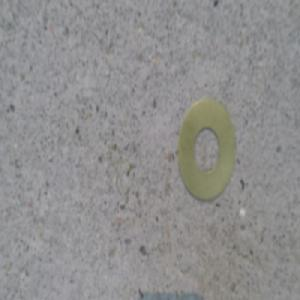Washer: (176, 95, 235, 204)
